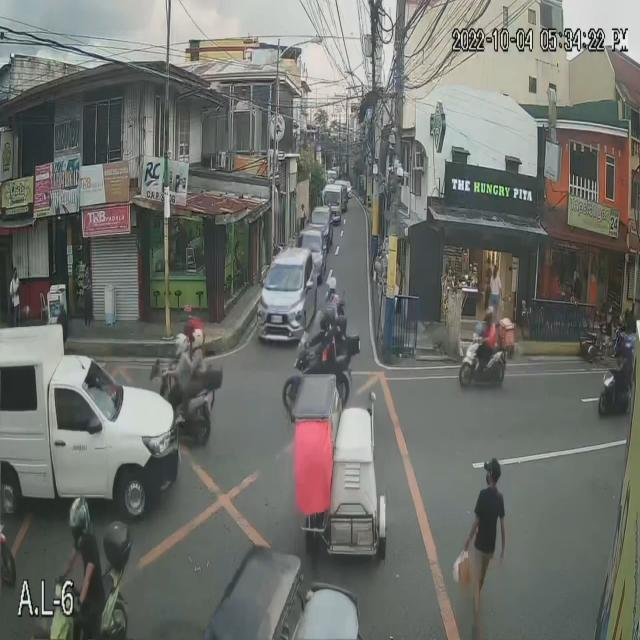Full-Faced: (66, 494, 91, 538), (187, 326, 205, 355), (172, 333, 192, 357), (483, 304, 497, 328)
Half-Faced: (314, 303, 336, 336)
